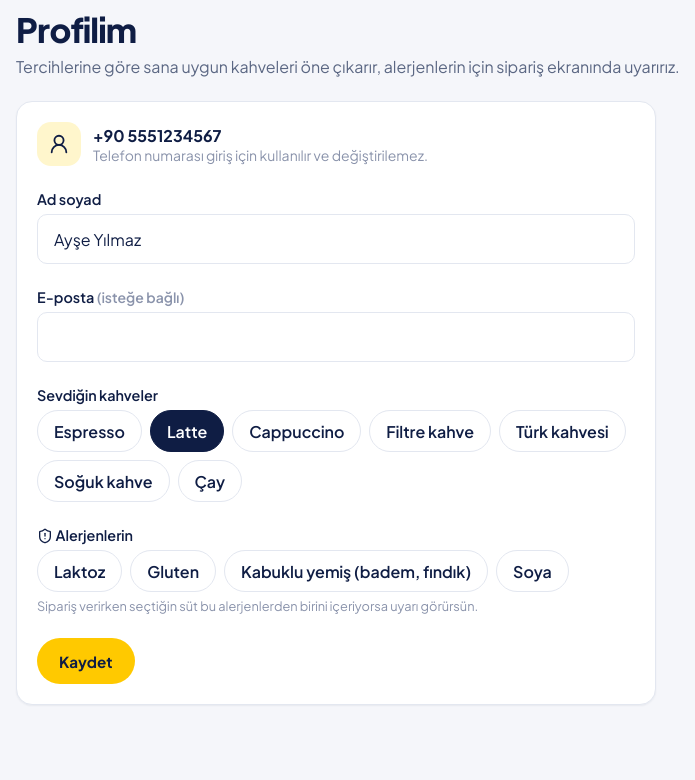
Scenario: ProfilePage (case 3.1) › geçersiz e-postayı göndermeden önce yakalar
Type "bozuk" into the field labelled "E-posta (isteğe bağlı)".
click(336, 337); type("bozuk")  # box [37, 312, 635, 362]
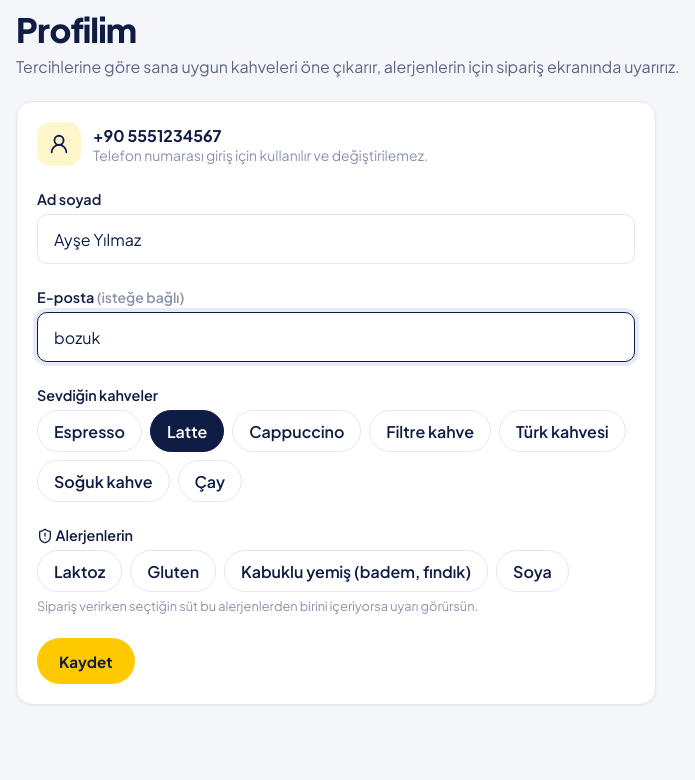
Click the button "Kaydet".
click(86, 661)  # box [37, 638, 134, 684]
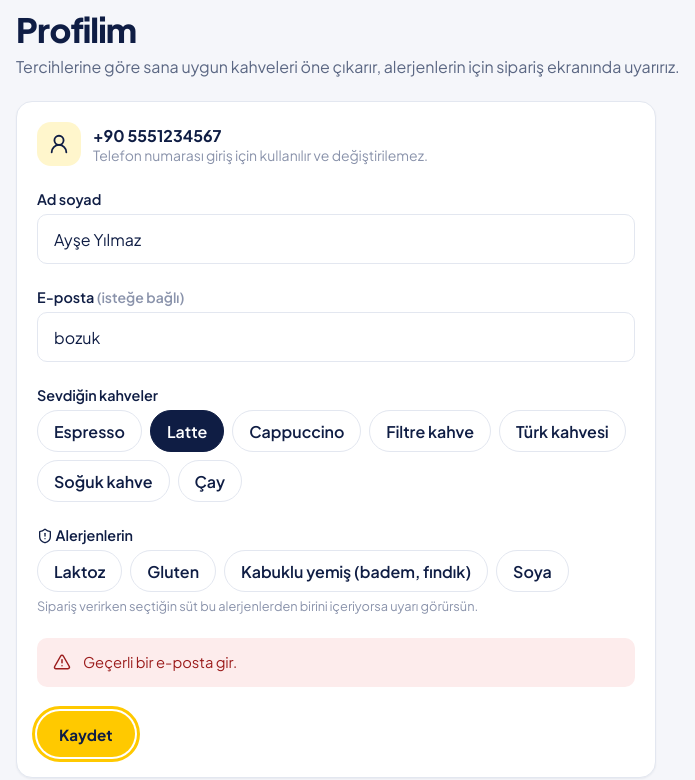
Expected: the text "Geçerli bir e-posta gir." is shown, [83, 652, 237, 673]
